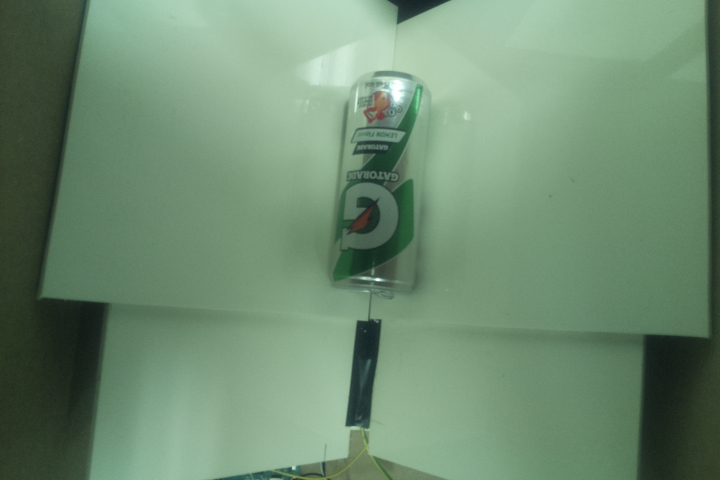can: (325, 67, 436, 299)
